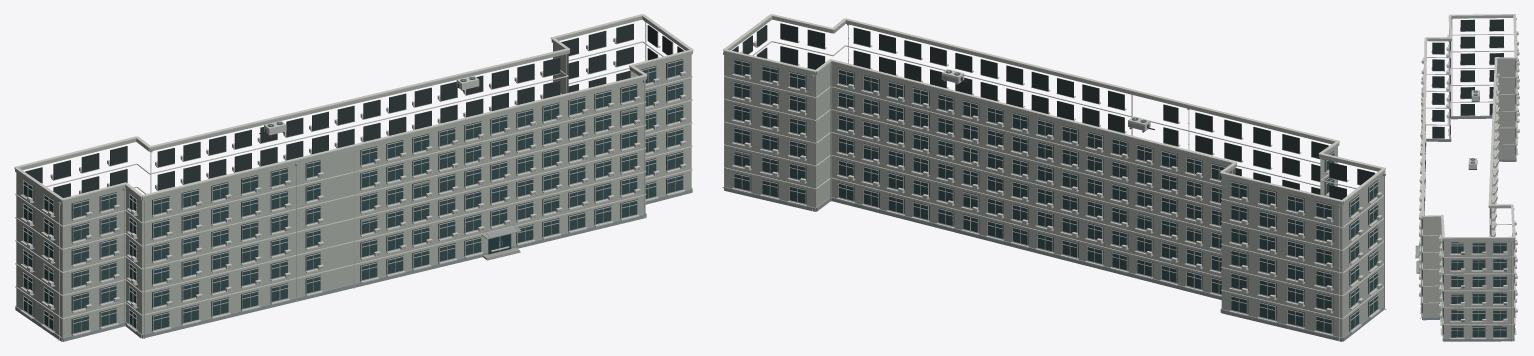
File: osm_way_223859829.glb
The picture shows the model from 3 angles, left to right: view 1: azimuth 30°, elevation 25°; view 2: azimuth 150°, elevation 25°; view 3: azimuth 270°, elevation 25°; orthographic projection. The views are drawn at different scales.
Visible parts, largest first — view 1: Windows and facade details | 1, Architecture | 1, Roof services | 1, EXTERIOR::osm_way_223859829::rainwater and roof service deta, EXTERIOR::osm_way_223859829::inferred entry doors canopy and; view 2: Windows and facade details | 1, Architecture | 1, Roof services | 1, EXTERIOR::osm_way_223859829::rainwater and roof service deta; view 3: Architecture | 1, Windows and facade details | 1, Roof services | 1, EXTERIOR::osm_way_223859829::rainwater and roof service deta, EXTERIOR::osm_way_223859829::inferred entry doors canopy and.
Part boxes in pixels (x1=…): Windows and facade details | 1: x1=20, y1=23, x2=686, y2=338; Architecture | 1: x1=15, y1=16, x2=692, y2=341; Roof services | 1: x1=14, y1=14, x2=693, y2=200; EXTERIOR::osm_way_223859829::rainwater and roof service deta: x1=57, y1=21, x2=646, y2=340; EXTERIOR::osm_way_223859829::inferred entry doors canopy and: x1=482, y1=224, x2=521, y2=260; Windows and facade details | 1: x1=732, y1=23, x2=1382, y2=336; Architecture | 1: x1=723, y1=16, x2=1385, y2=341; Roof services | 1: x1=723, y1=14, x2=1385, y2=202; EXTERIOR::osm_way_223859829::rainwater and roof service deta: x1=722, y1=24, x2=1386, y2=341; Architecture | 1: x1=1422, y1=15, x2=1516, y2=341; Windows and facade details | 1: x1=1419, y1=19, x2=1519, y2=339; Roof services | 1: x1=1421, y1=14, x2=1517, y2=238; EXTERIOR::osm_way_223859829::rainwater and roof service deta: x1=1420, y1=18, x2=1516, y2=341; EXTERIOR::osm_way_223859829::inferred entry doors canopy and: x1=1415, y1=245, x2=1420, y2=273.
Size of the model in its own units: 92.16 by 20.58 by 17.94.
